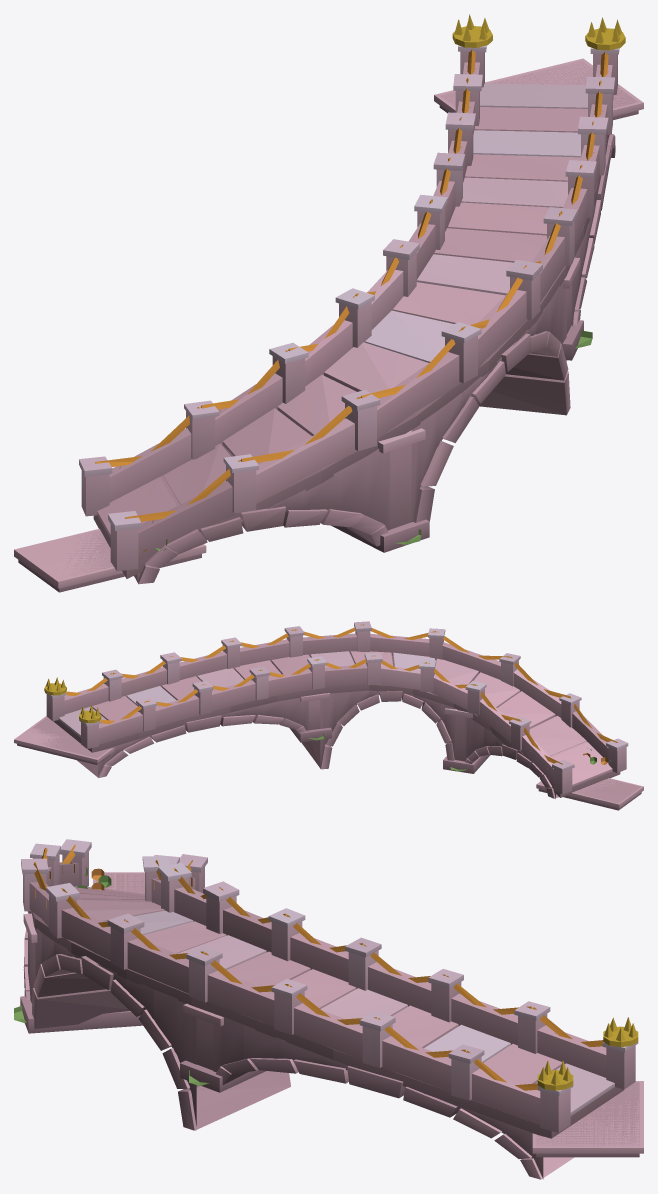
The model's file is wedding.glb.
3 views of the same model, one above another, from view 1: azimuth 30°, elevation 25°; view 2: azimuth 150°, elevation 25°; view 3: azimuth 270°, elevation 25° (orthographic). The views are drawn at different scales.
Parts seen in each view (by area): view 1: bridge-wedding; view 2: bridge-wedding; view 3: bridge-wedding.
Part boxes in pixels (<box>): bridge-wedding: <box>14,14,643,592</box>; bridge-wedding: <box>14,621,643,810</box>; bridge-wedding: <box>14,839,643,1179</box>.
Size of the model in its own units: 2.44 by 0.5664 by 1.76.
